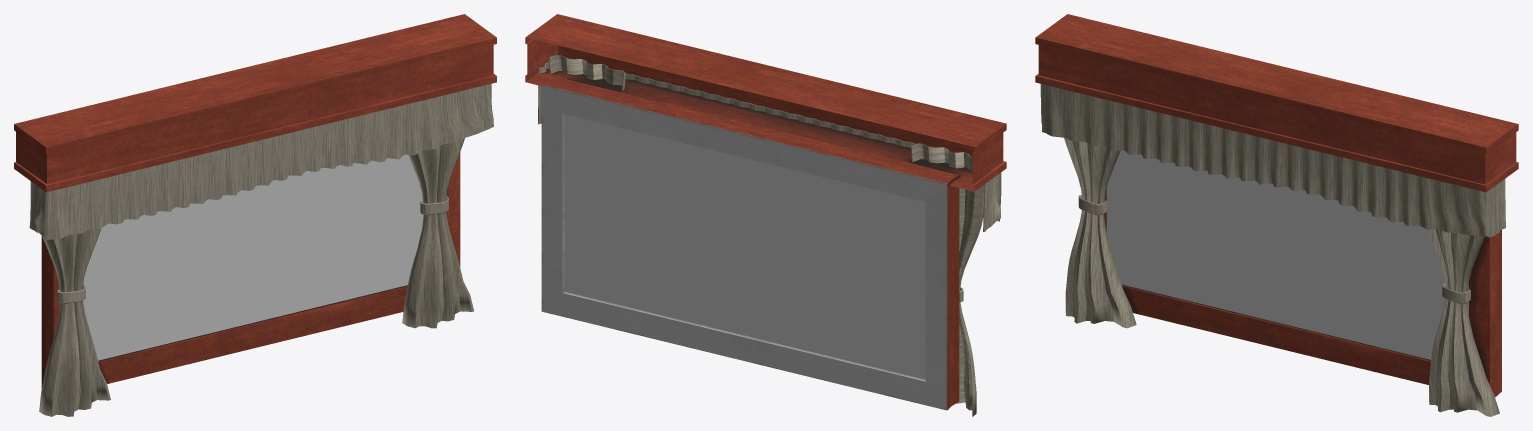
The model's file is SM_Long_Window.fbx.
3 views of the same model, side by side, from view 1: azimuth 30°, elevation 25°; view 2: azimuth 150°, elevation 25°; view 3: azimuth 330°, elevation 25° (orthographic).
Visible parts, largest first — view 1: SM_Long_Window; view 2: SM_Long_Window; view 3: SM_Long_Window.
Boxes of the visible parts, x1,y1,x2,y2 form: SM_Long_Window: (14, 14, 496, 416); SM_Long_Window: (525, 14, 1006, 416); SM_Long_Window: (1035, 14, 1518, 416).
Bounding box in the file's own units: 166 × 20.37 × 99.03.
2 materials, 1 textured.
